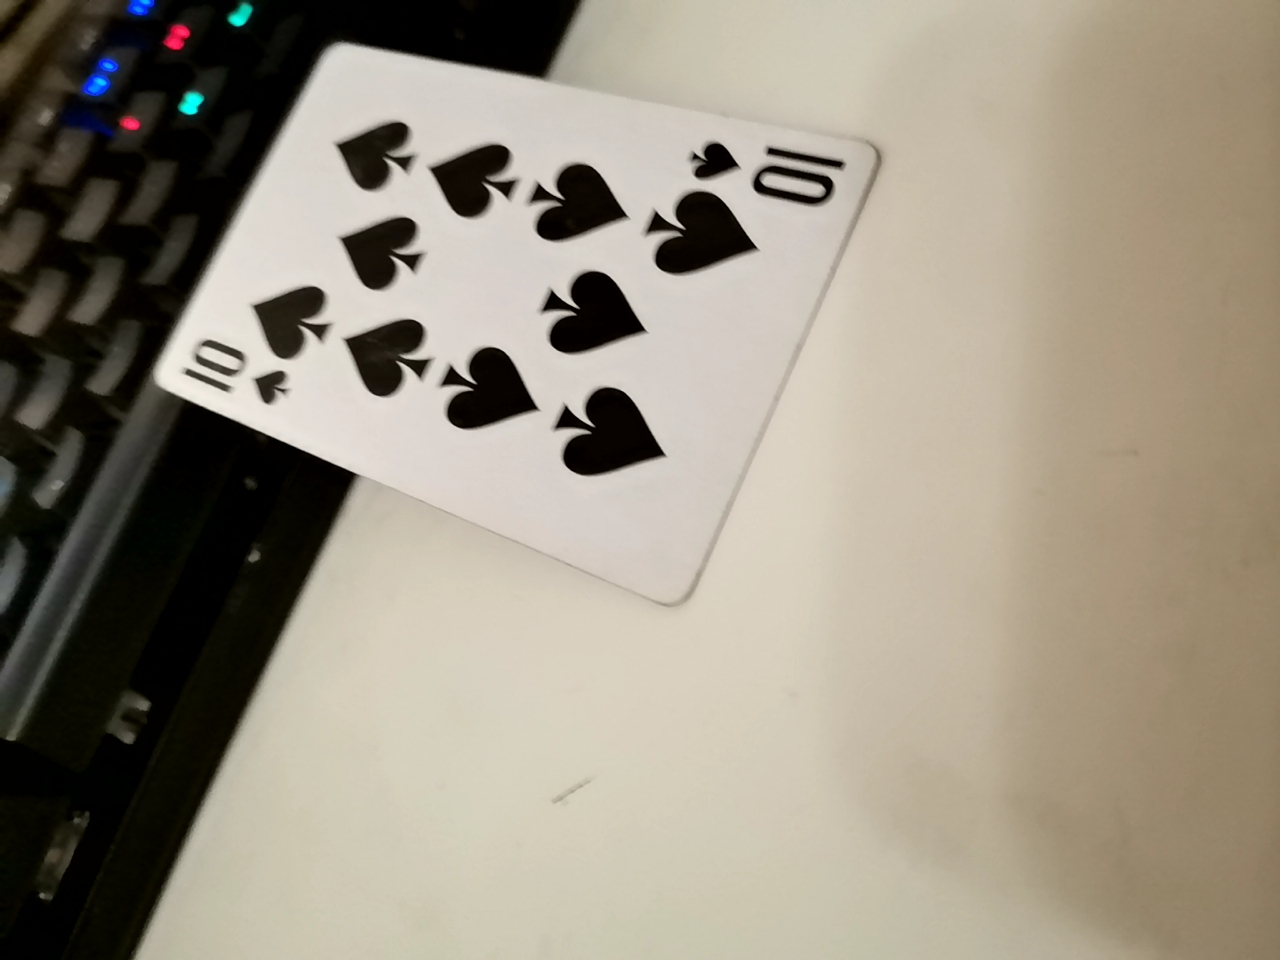ht 10: (178, 18, 891, 589)
